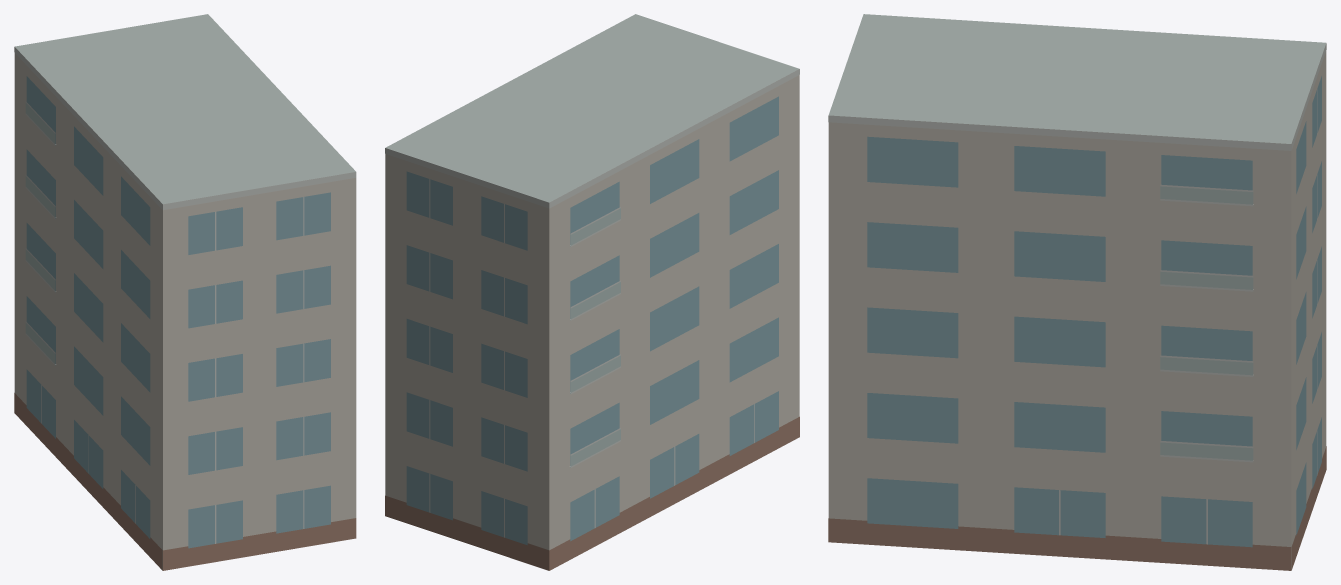
File: survey-upis-32752855.glb
3 renders of one model, left to right at view 1: azimuth 30°, elevation 25°; view 2: azimuth 150°, elevation 25°; view 3: azimuth 270°, elevation 25°, orthographic. The views are drawn at different scales.
Parts seen in each view (by area): view 1: survey-upis-32752855.tmp; view 2: survey-upis-32752855.tmp; view 3: survey-upis-32752855.tmp.
Part boxes in pixels (x1=…): survey-upis-32752855.tmp: x1=14, y1=14, x2=356, y2=570; survey-upis-32752855.tmp: x1=385, y1=14, x2=799, y2=570; survey-upis-32752855.tmp: x1=828, y1=14, x2=1326, y2=570.
Size of the model in its own units: 9.92 by 15.16 by 16.04.
